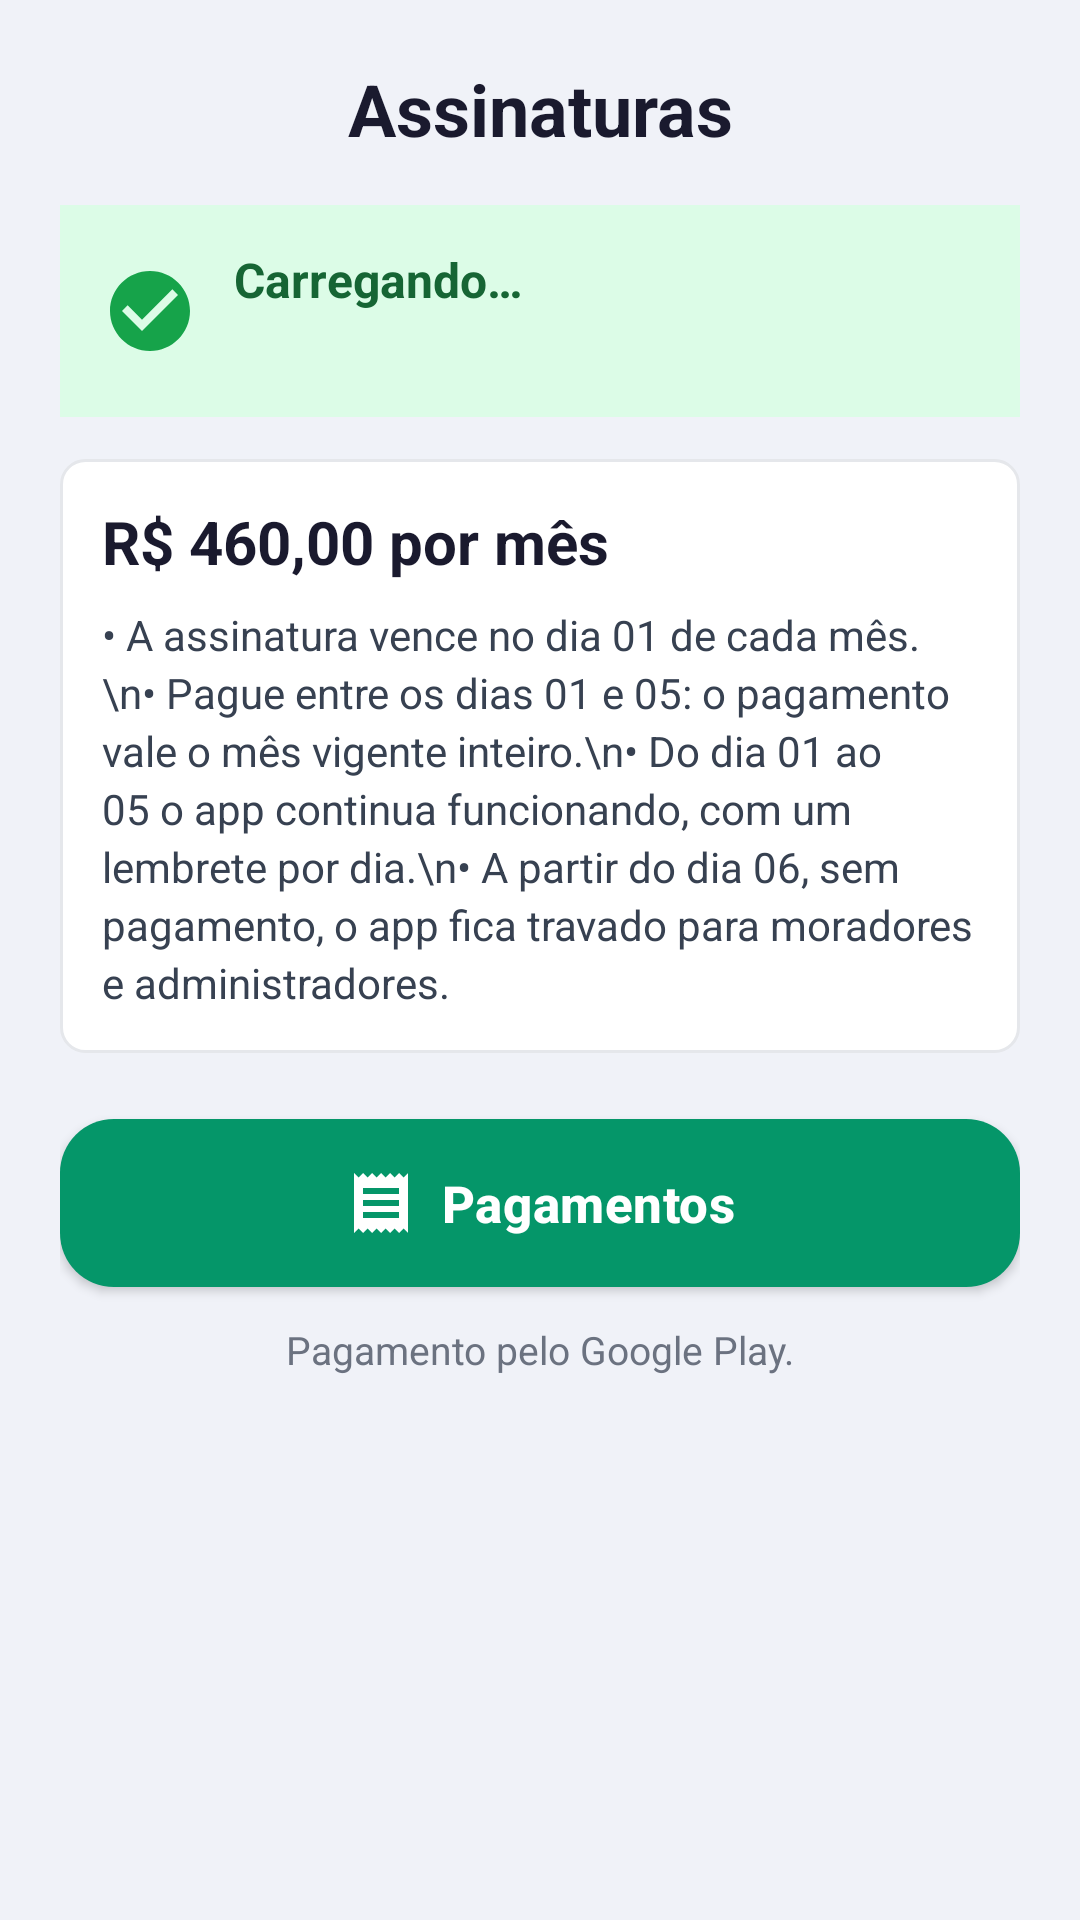

Where icons sit on this 1080px x 1920px app screen, as (x1, y1, x2, y2):
Situação da assinatura: (110, 271, 190, 351)
